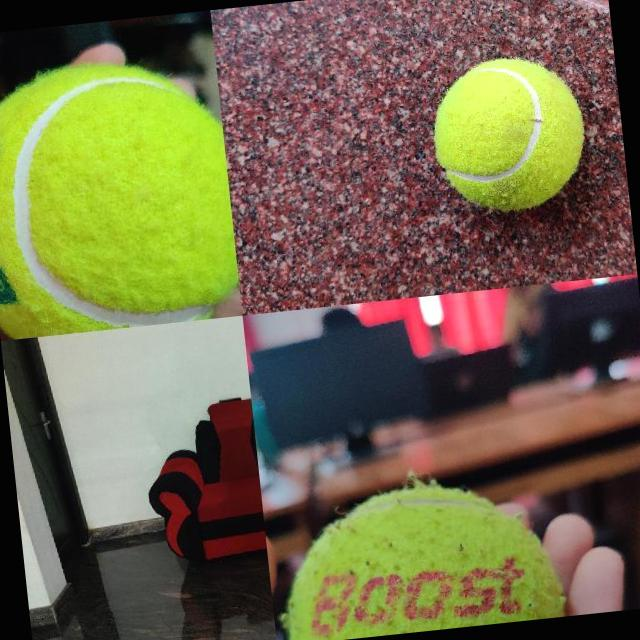Tennis Ball: (0, 51, 241, 339), (271, 472, 564, 640), (427, 51, 590, 216)
